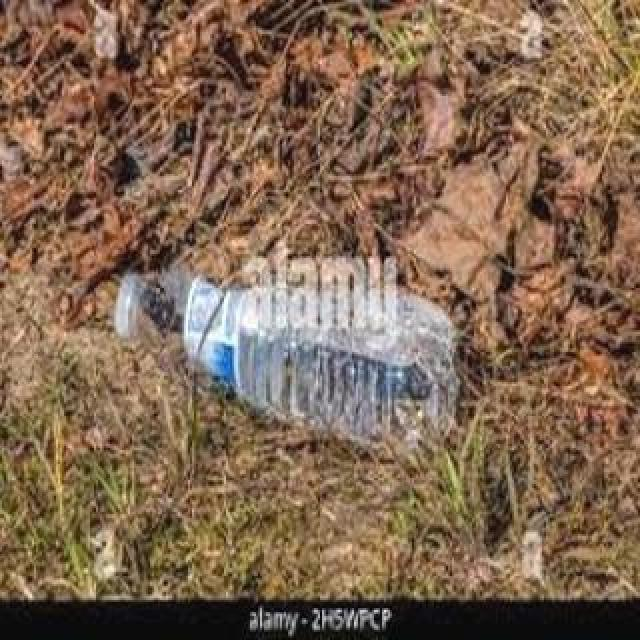Pet_Bottle: (115, 257, 459, 449)
